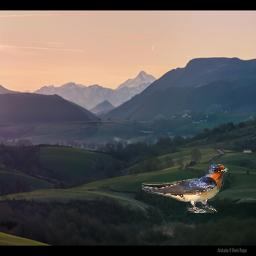Swallow: (142, 164, 228, 213)
